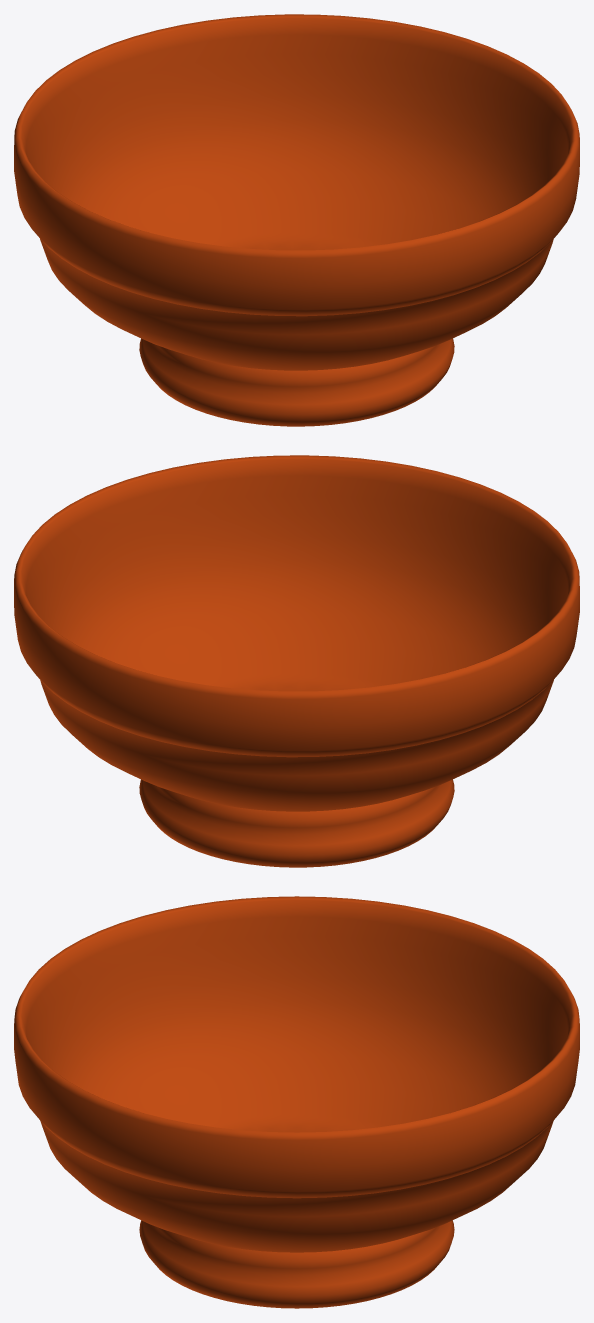
File: bowl_bronze.obj
3 views of the same model, one above another, from view 1: azimuth 30°, elevation 25°; view 2: azimuth 150°, elevation 25°; view 3: azimuth 270°, elevation 25° (orthographic).
Parts seen in each view (by area): view 1: Cylinder, Cylinder.001; view 2: Cylinder, Cylinder.001; view 3: Cylinder, Cylinder.001.
Boxes of the visible parts, x1=… form: Cylinder: x1=14, y1=14, x2=579, y2=370; Cylinder.001: x1=139, y1=338, x2=454, y2=426; Cylinder: x1=14, y1=455, x2=579, y2=811; Cylinder.001: x1=139, y1=779, x2=454, y2=867; Cylinder: x1=14, y1=896, x2=579, y2=1252; Cylinder.001: x1=139, y1=1220, x2=454, y2=1308.
Bounding box in the file's own units: 1.24 × 0.5595 × 1.24.
